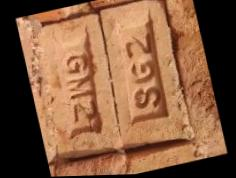brick: (89, 0, 196, 153), (24, 12, 128, 164), (122, 141, 195, 175), (51, 150, 126, 177)
